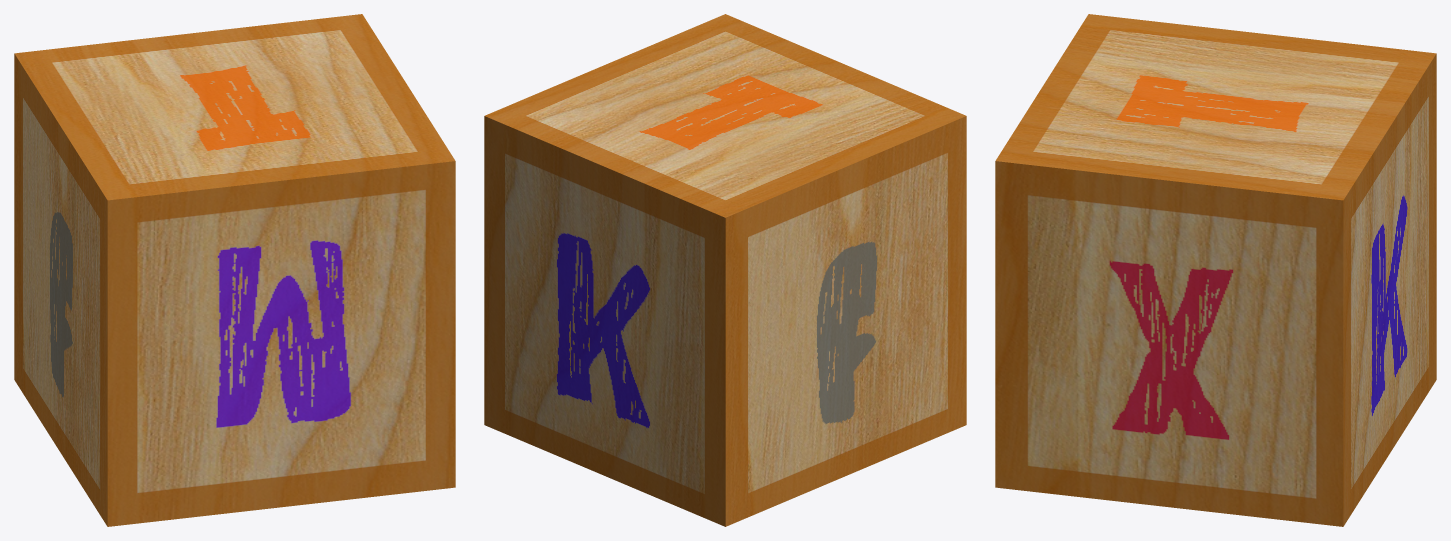
The model's file is CuboAmarillo.fbx.
3 renders of one model, left to right at view 1: azimuth 30°, elevation 25°; view 2: azimuth 150°, elevation 25°; view 3: azimuth 270°, elevation 25°, orthographic. The views are drawn at different scales.
Visible parts, largest first — view 1: CuboJuguete05; view 2: CuboJuguete05; view 3: CuboJuguete05.
Part boxes in pixels (x1=…): CuboJuguete05: x1=14, y1=14, x2=455, y2=526; CuboJuguete05: x1=484, y1=14, x2=966, y2=526; CuboJuguete05: x1=995, y1=14, x2=1436, y2=526.
Bounding box in the file's own units: 10.84 × 8.85 × 10.84.
1 material, 1 textured.
